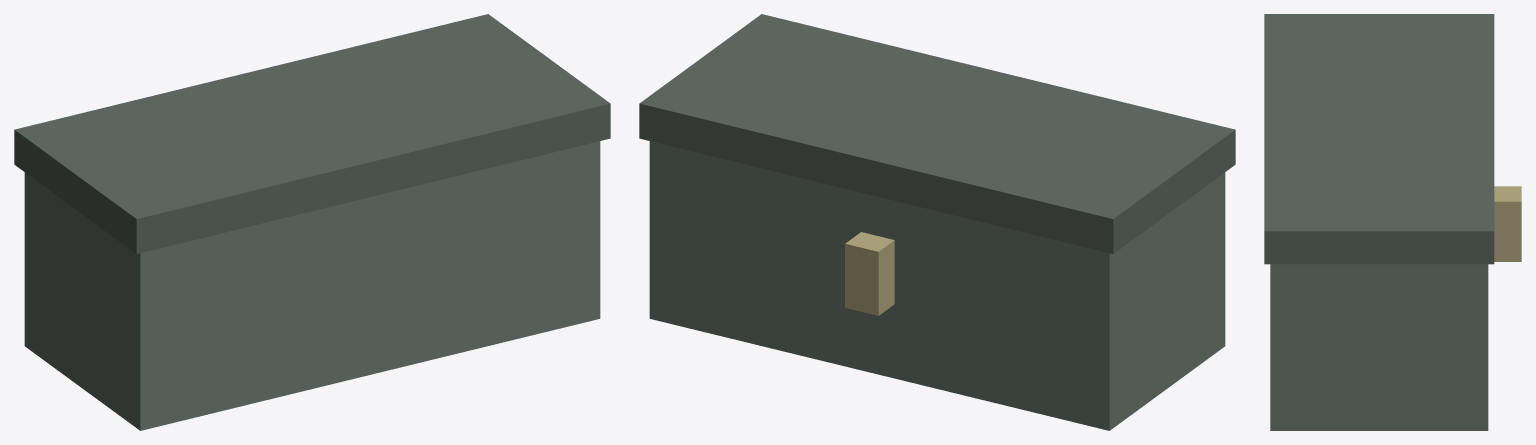
Rendered from weapon_crate.glb.
3 renders of one model, left to right at view 1: azimuth 30°, elevation 25°; view 2: azimuth 150°, elevation 25°; view 3: azimuth 270°, elevation 25°, orthographic. The views are drawn at different scales.
Parts seen in each view (by area): view 1: body_0, lid_1; view 2: body_0, lid_1, latch_2; view 3: lid_1, body_0, latch_2.
Part boxes in pixels (bbox=[...]): body_0: bbox=[24, 141, 600, 430]; lid_1: bbox=[14, 14, 610, 253]; body_0: bbox=[649, 141, 1225, 430]; lid_1: bbox=[639, 14, 1235, 253]; latch_2: bbox=[845, 232, 894, 315]; lid_1: bbox=[1264, 14, 1494, 264]; body_0: bbox=[1270, 264, 1488, 430]; latch_2: bbox=[1494, 186, 1521, 261].
Size of the model in its own units: 1.7 by 0.74 by 0.85.
